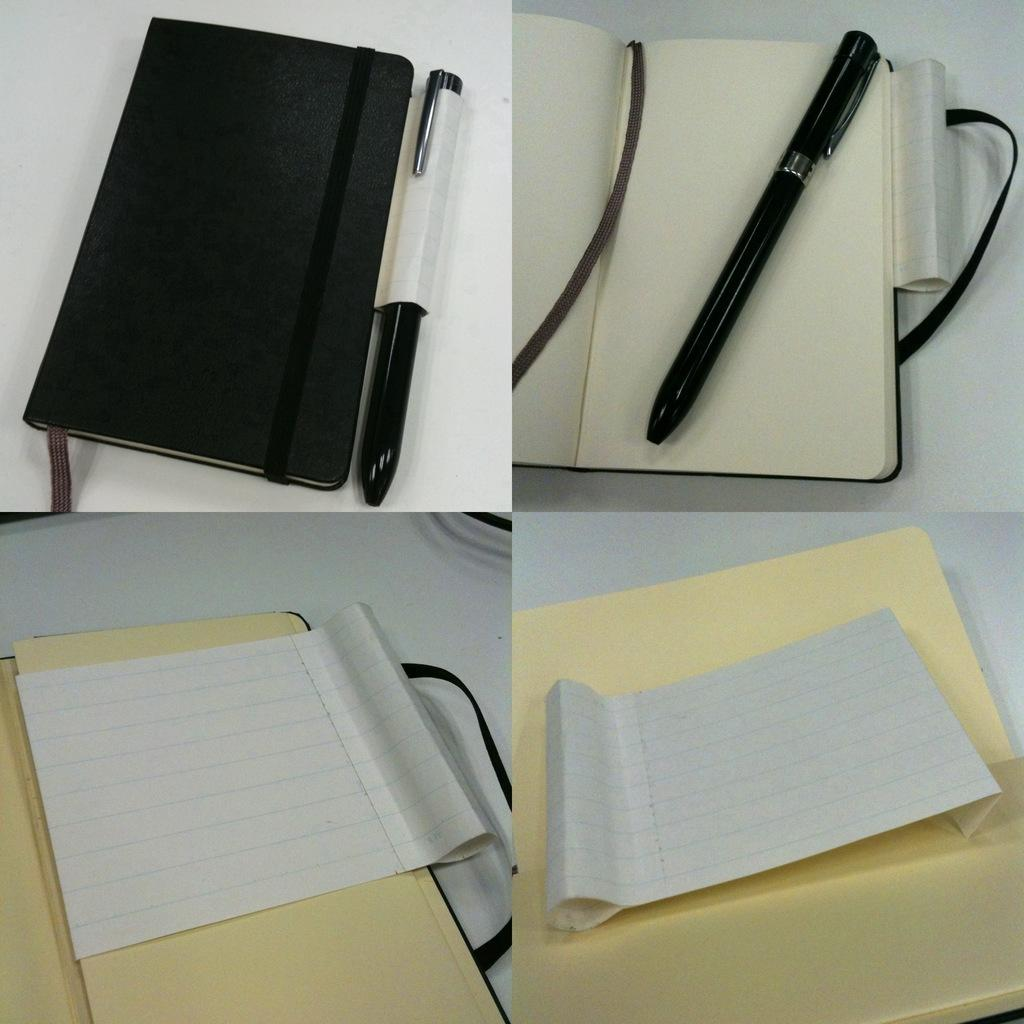Book: (11, 601, 495, 963)
